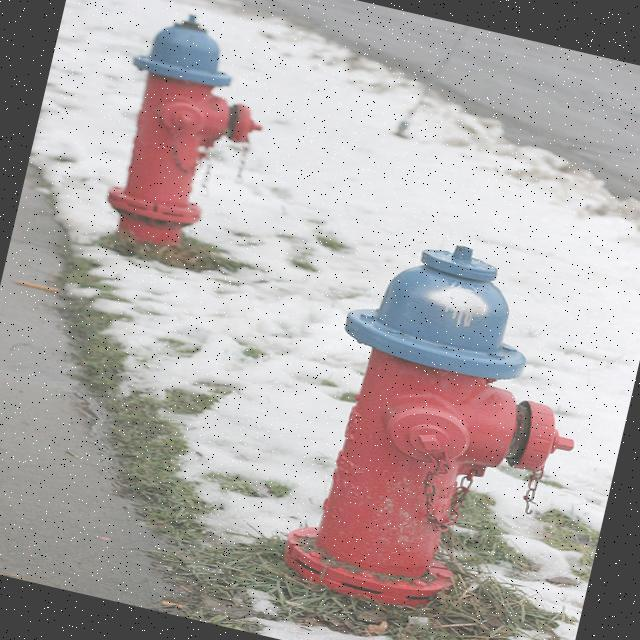fire_hydrant: (273, 220, 618, 640), (92, 0, 286, 261)
